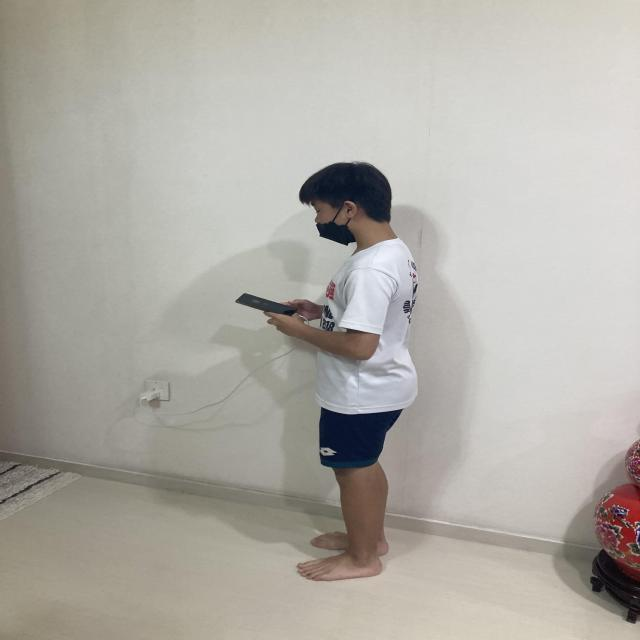hairnet: (308, 207, 369, 246)
